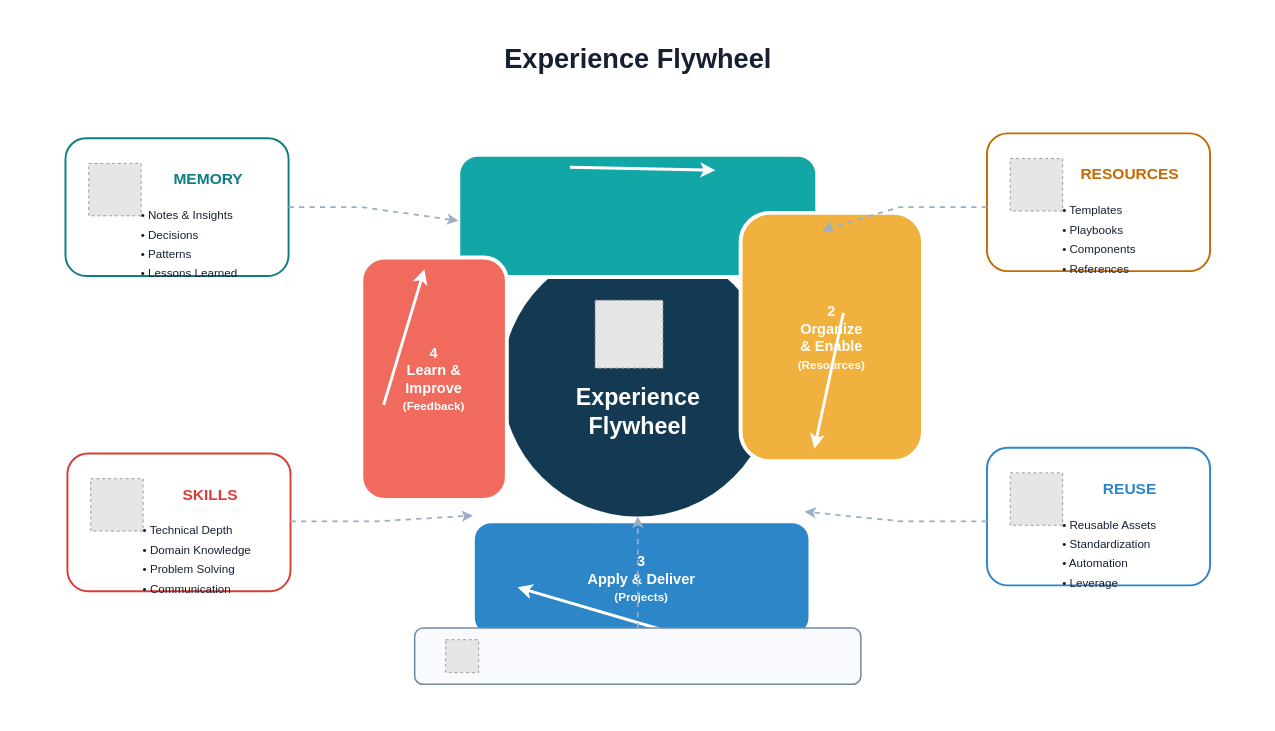
This 1275x731 diagram has some shape labels left out. Grey dashed boxes stand in for pictures. The box of each missing label's shape, as (x1, y1, x2, y2) in pixels:
1 Capture & Store (Memory): (456, 152, 819, 278)
PROJECT DELIVERY Value to Users • Quality Outcomes • Stakeholder Trust: (413, 627, 861, 685)
